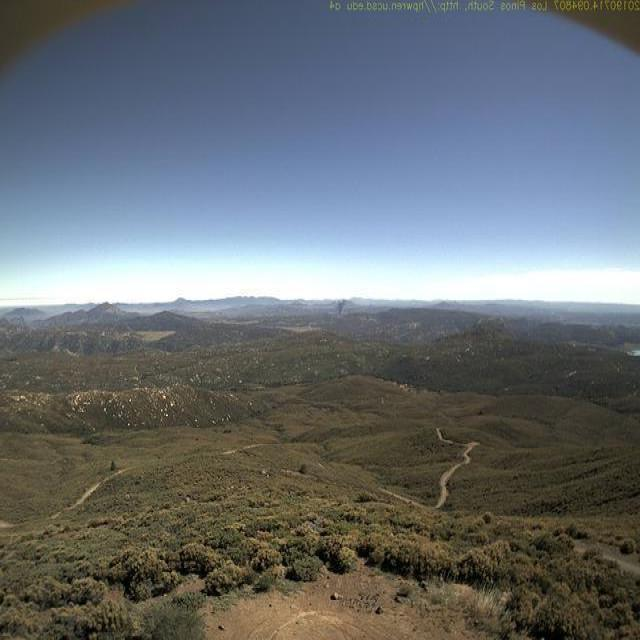Smoke: (331, 290, 353, 320)
